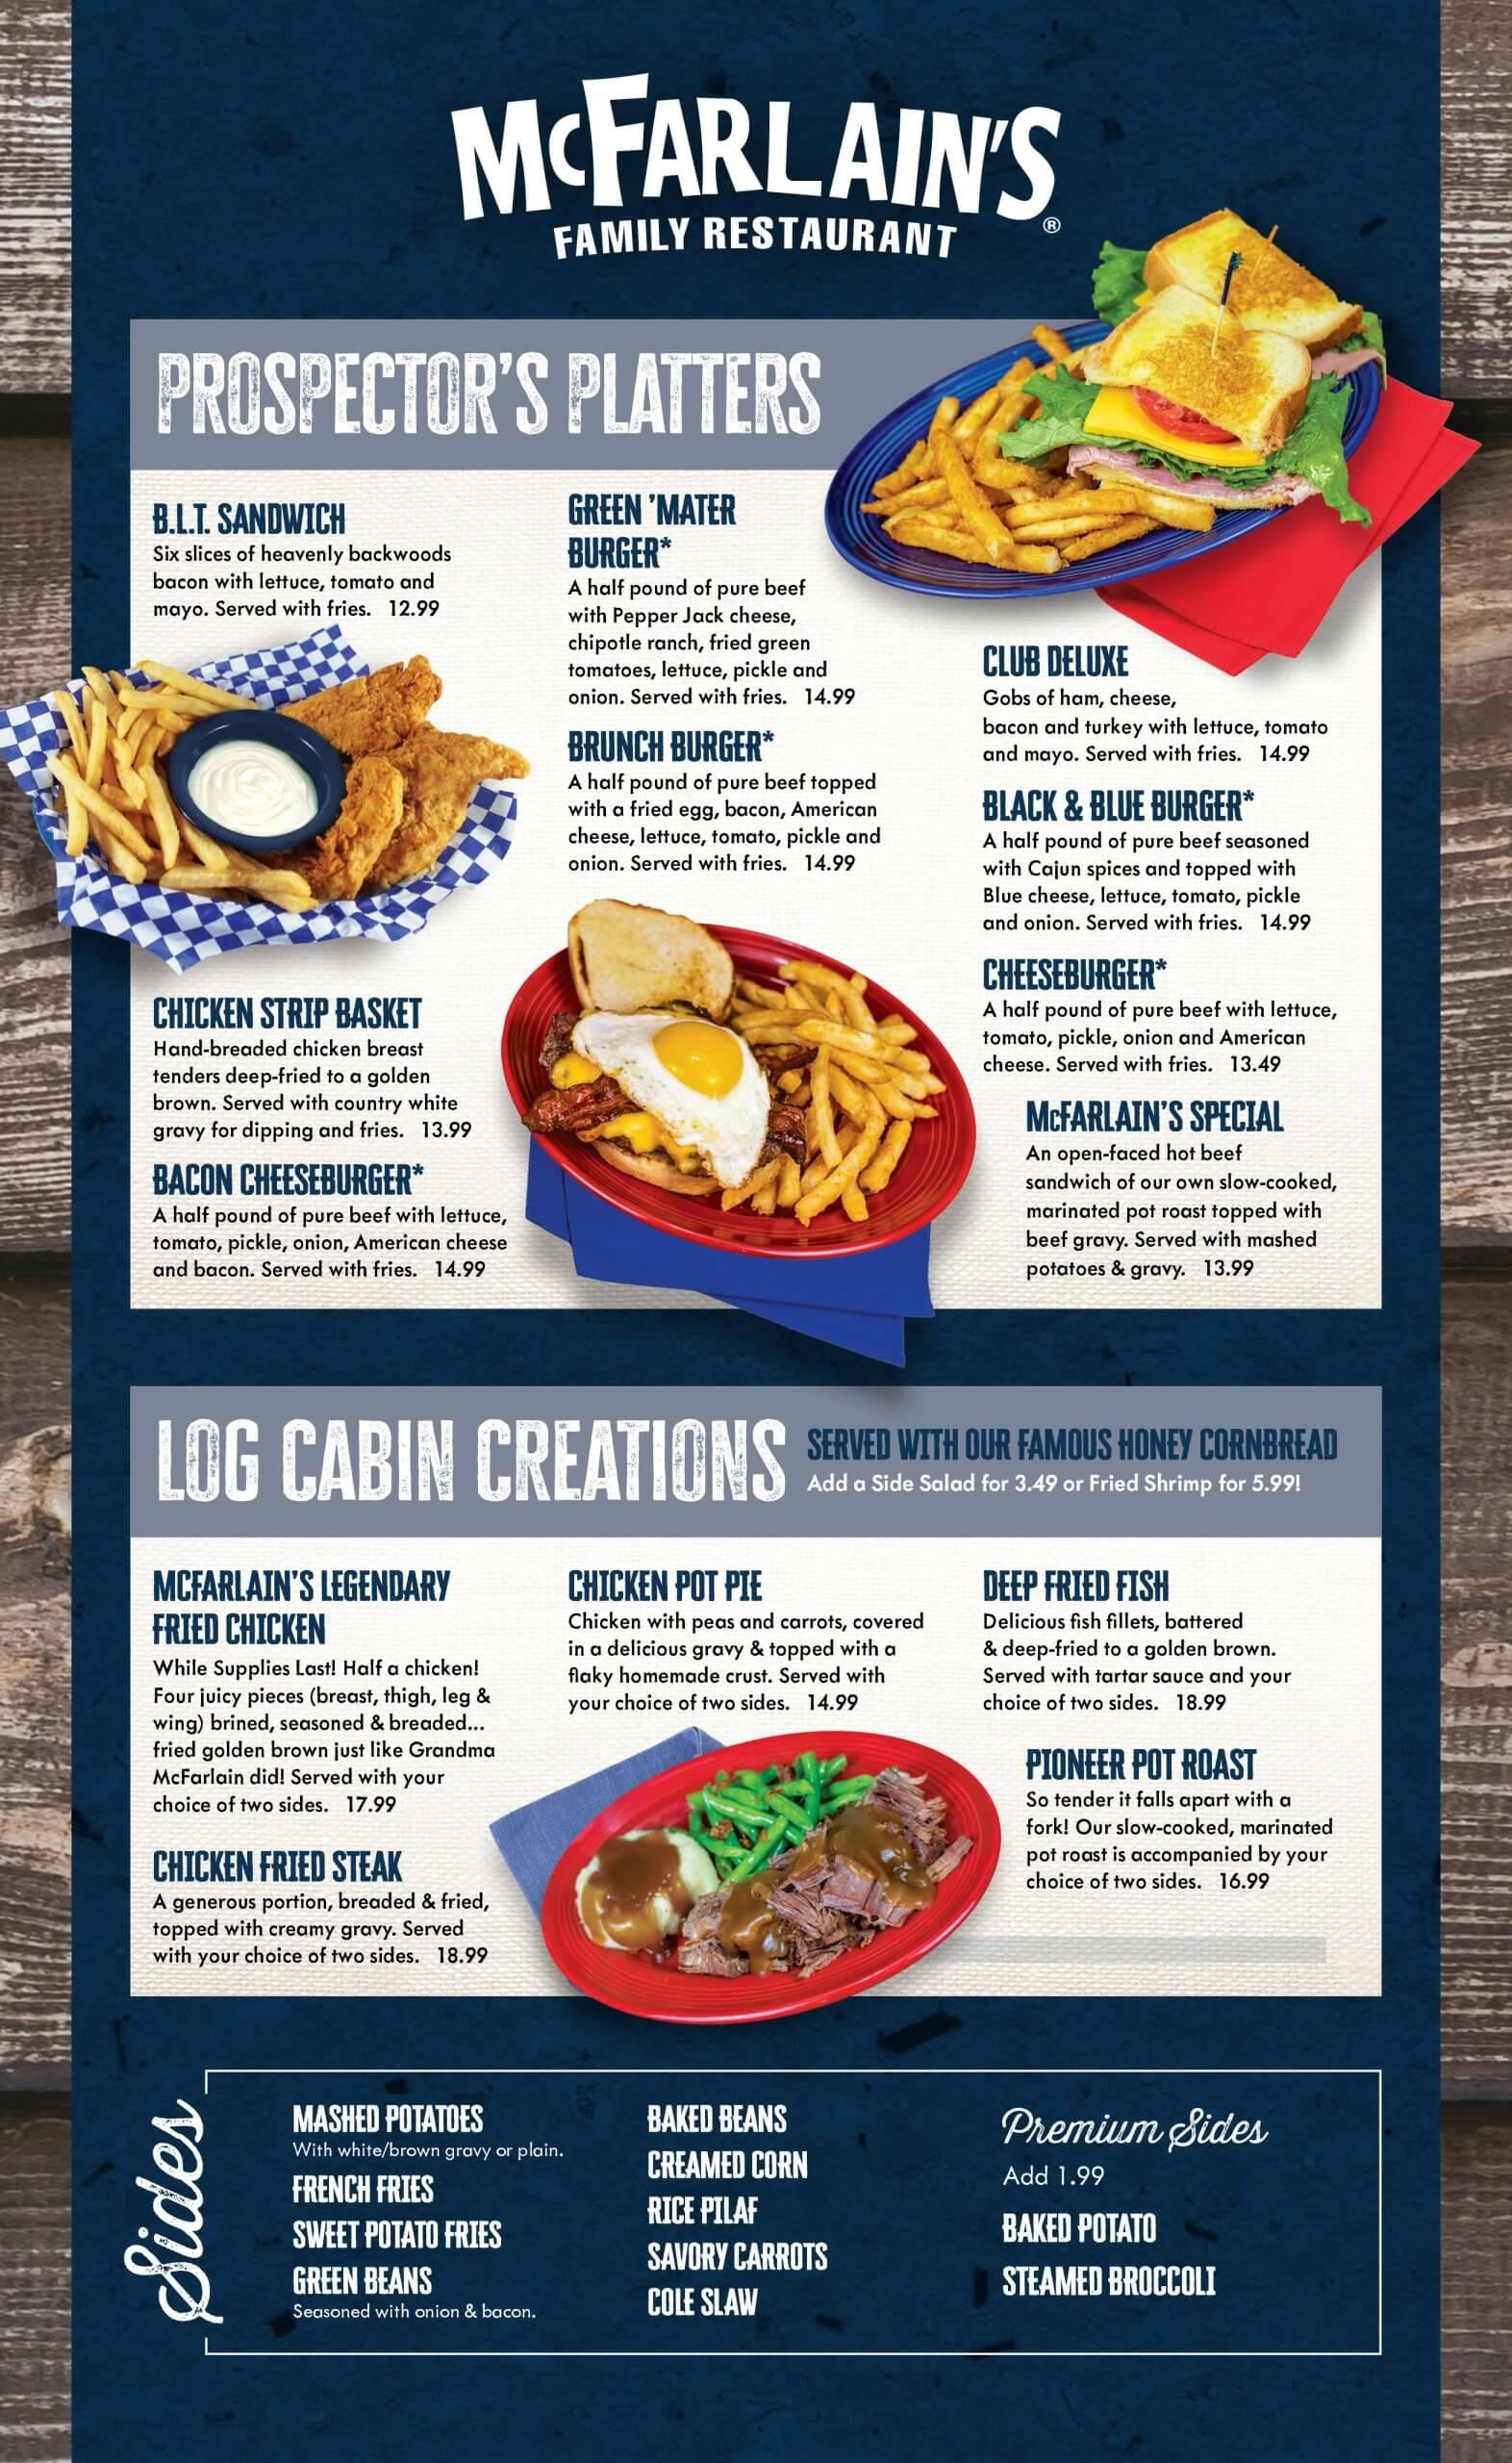Menu-Items: (146, 1559, 503, 1823), (545, 484, 879, 716), (540, 1546, 941, 1717), (1004, 1096, 1350, 1288), (970, 776, 1338, 948), (999, 1729, 1352, 1904), (962, 1546, 1319, 1719), (144, 1154, 531, 1300), (550, 725, 900, 885), (958, 625, 1338, 771), (141, 989, 487, 1147), (142, 1837, 498, 1981), (967, 957, 1350, 1087), (141, 491, 478, 625), (264, 2085, 570, 2162), (280, 2264, 549, 2326), (614, 2081, 825, 2143), (264, 2217, 554, 2259), (988, 2261, 1236, 2306), (985, 2199, 1190, 2254), (629, 2238, 839, 2275), (265, 2173, 494, 2204), (628, 2148, 835, 2182), (631, 2192, 793, 2234), (635, 2282, 768, 2329)
